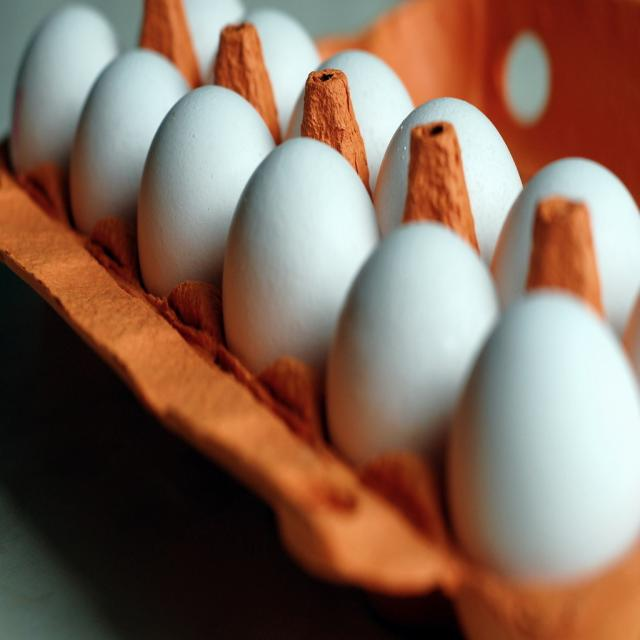Egg: (11, 0, 640, 577), (220, 138, 379, 394)
